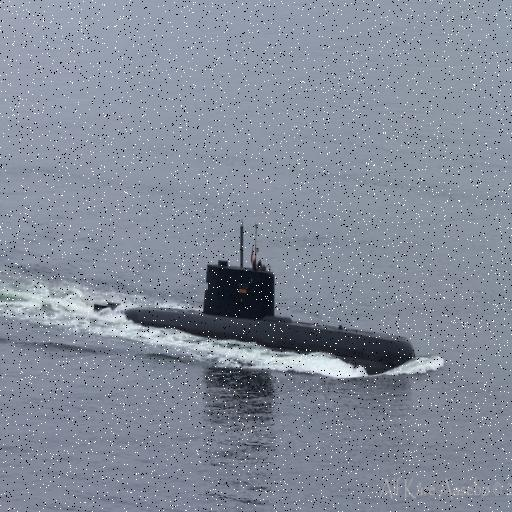submarine: (73, 219, 425, 373)
